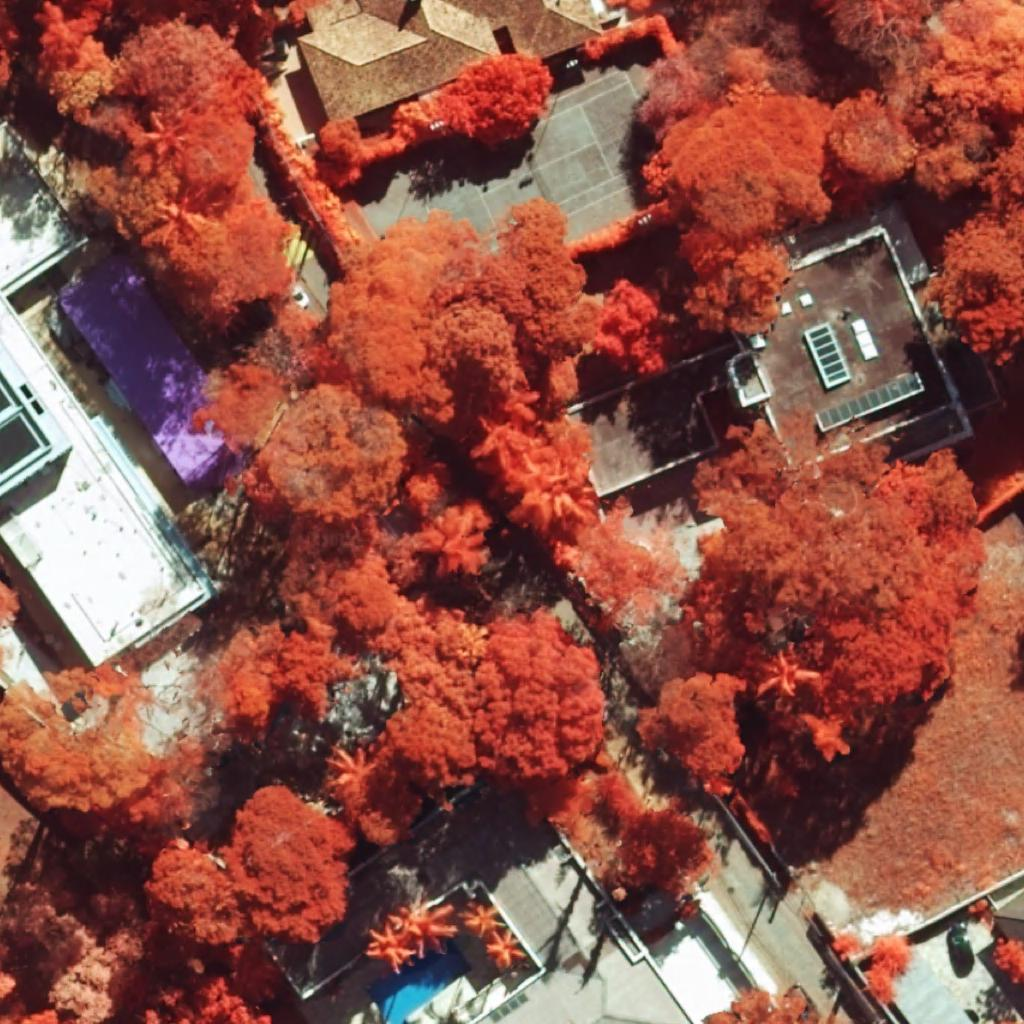pool: (367, 939, 472, 1024)
